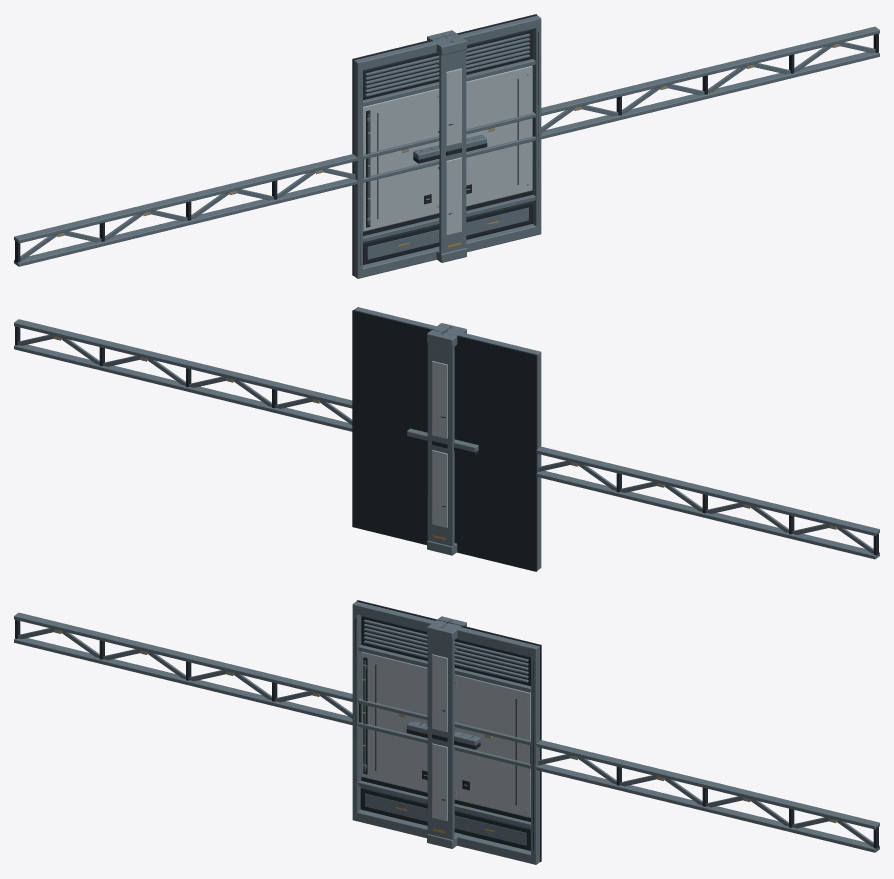
The model's file is kit-v1.glb.
3 renders of one model, top to bottom at view 1: azimuth 30°, elevation 25°; view 2: azimuth 150°, elevation 25°; view 3: azimuth 330°, elevation 25°, orthographic.
Parts seen in each view (by area): view 1: ceiling-truss_alloy, wall-bay_ceramic, wall-bay_alloy, wall-bay_graphite, support-column_alloy, support-column_ceramic, ceiling-truss_graphite; view 2: wall-bay_graphite, ceiling-truss_alloy, support-column_alloy, support-column_ceramic, wall-bay_alloy, ceiling-truss_graphite; view 3: ceiling-truss_alloy, wall-bay_ceramic, wall-bay_alloy, wall-bay_graphite, support-column_alloy, support-column_ceramic, ceiling-truss_graphite.
Part boxes in pixels (x1,y1,x2,y2): ceiling-truss_alloy: (14,26,879,266); wall-bay_ceramic: (363,65,532,231); wall-bay_alloy: (354,15,541,278); wall-bay_graphite: (352,14,538,275); support-column_alloy: (427,30,466,262); support-column_ceramic: (446,68,461,235); ceiling-truss_graphite: (15,34,878,262); wall-bay_graphite: (352,310,537,571); ceiling-truss_alloy: (14,319,879,559); support-column_alloy: (427,323,466,555); support-column_ceramic: (432,361,447,527); wall-bay_alloy: (354,307,541,570); ceiling-truss_graphite: (15,326,878,556); ceiling-truss_alloy: (14,612,879,852); wall-bay_ceramic: (361,651,530,817); wall-bay_alloy: (352,601,539,864); wall-bay_graphite: (354,600,541,861); support-column_alloy: (427,616,466,848); support-column_ceramic: (432,654,447,821); ceiling-truss_graphite: (15,620,878,849).
Size of the model in its own units: 50 by 12 by 1.5.
